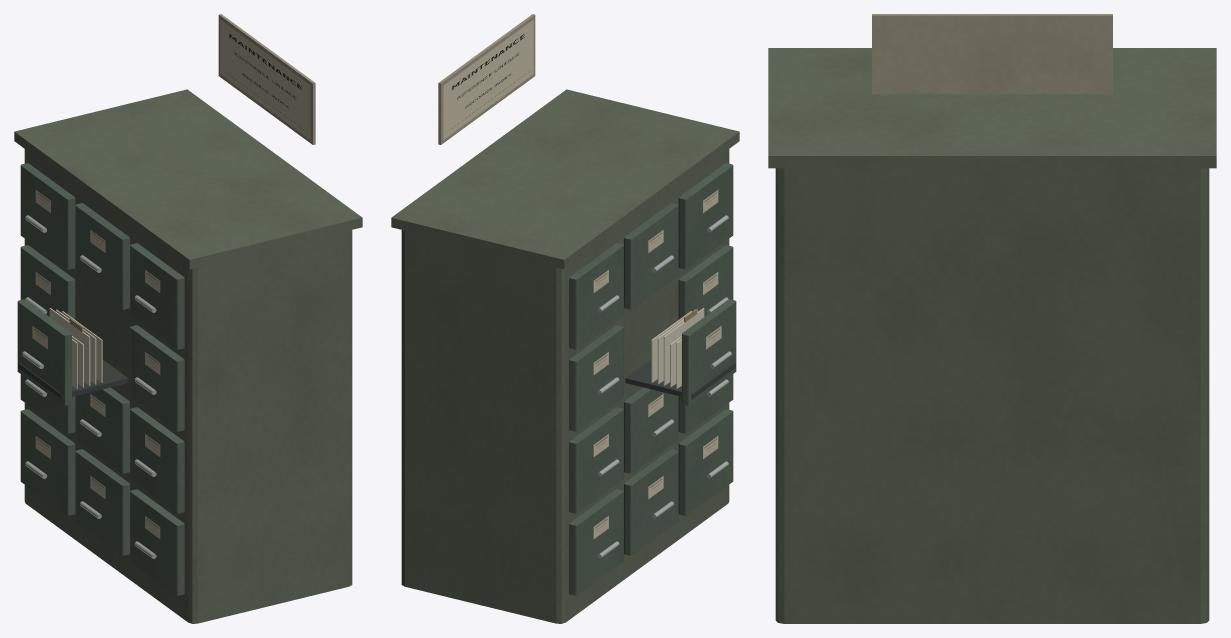
Rendered from SM_ArchiveProps_CardIndex_LOD1.glb.
3 views of the same model, side by side, from view 1: azimuth 30°, elevation 25°; view 2: azimuth 150°, elevation 25°; view 3: azimuth 270°, elevation 25° (orthographic). The views are drawn at different scales.
Parts seen in each view (by area): view 1: SM_ArchiveProps_CardIndex_LOD1; view 2: SM_ArchiveProps_CardIndex_LOD1; view 3: SM_ArchiveProps_CardIndex_LOD1.
Part boxes in pixels (<box>): SM_ArchiveProps_CardIndex_LOD1: <box>14,14,362,623</box>; SM_ArchiveProps_CardIndex_LOD1: <box>391,14,739,623</box>; SM_ArchiveProps_CardIndex_LOD1: <box>768,14,1216,623</box>.
Bounding box in the file's own units: 0.748 × 1.39 × 0.93.
Materials: 8 (4 with a texture image).
